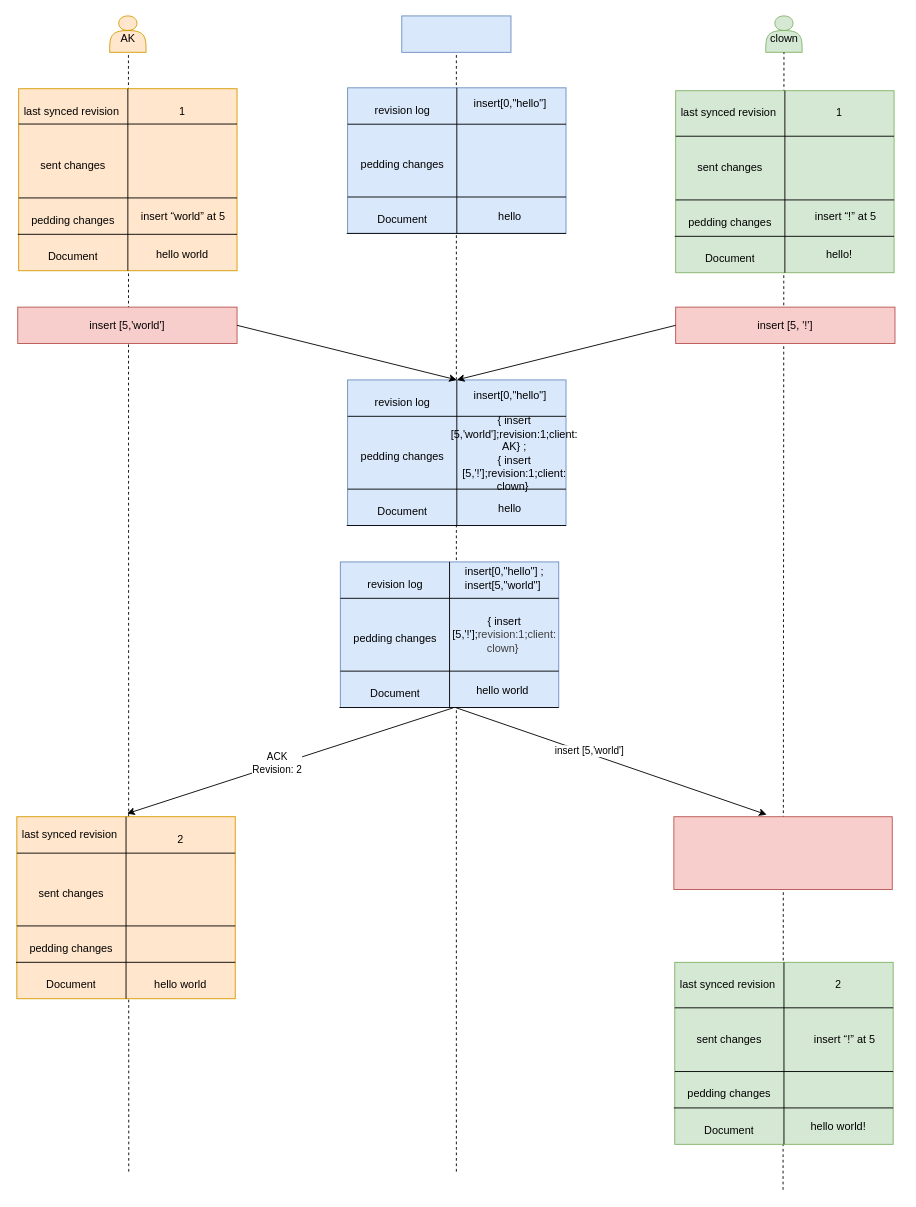
The diagram is 916 pixels wide and 1207 high, and some of its shapes have lost their labels. The shapes that lost their labels are listed below. From the top down, each one's centre as x and y in pixels, then its label:
the point at 456,33: serve服务端
the point at 782,853: 1. 将本地变更进行转换并且获取insert[11, '!'] 2.应用insert [5, 'world']
